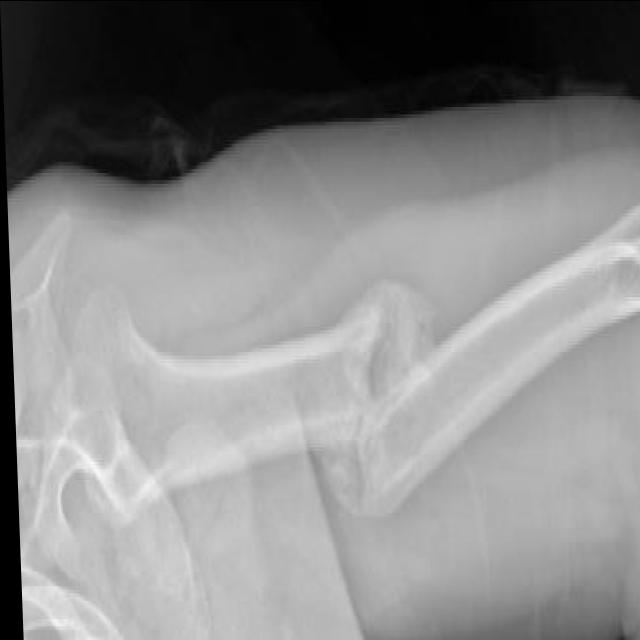fracture: (317, 256, 423, 567)
